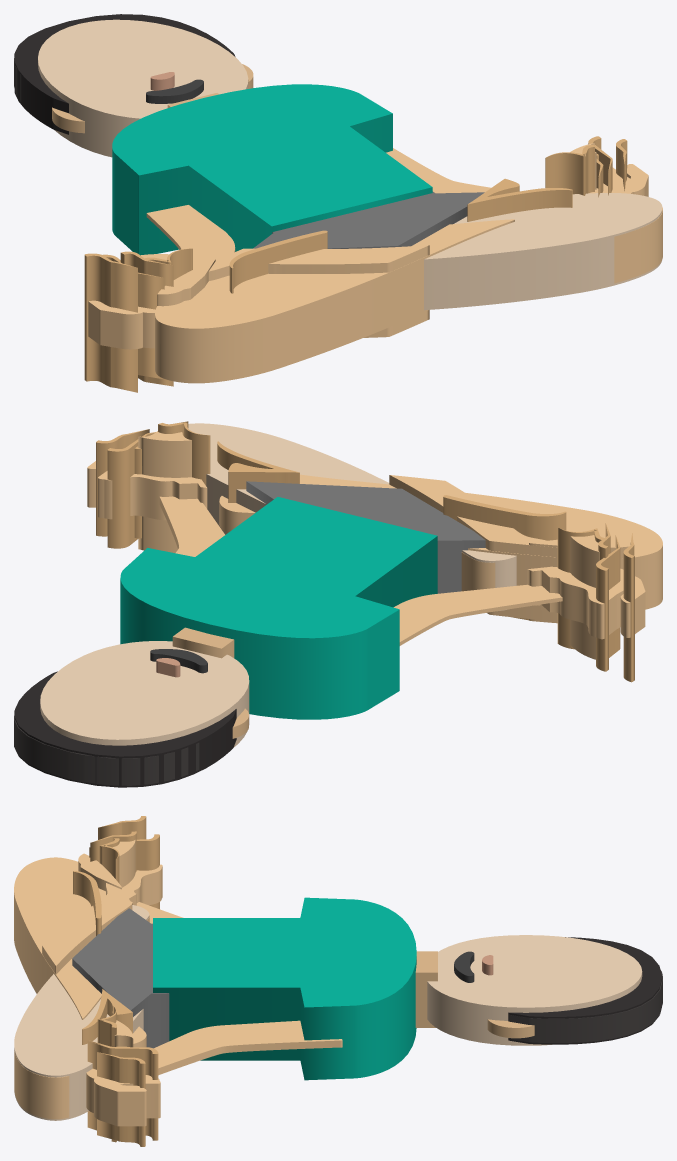
The model's file is emoji_u1f9d8_1f3fb_200d_2642.glb.
3 renders of one model, top to bottom at view 1: azimuth 30°, elevation 25°; view 2: azimuth 150°, elevation 25°; view 3: azimuth 270°, elevation 25°, orthographic. The views are drawn at different scales.
Visible parts, largest first — view 1: emoji_u1f9d8_1f3fb_200d_2642; view 2: emoji_u1f9d8_1f3fb_200d_2642; view 3: emoji_u1f9d8_1f3fb_200d_2642.
Part boxes in pixels (<box>): emoji_u1f9d8_1f3fb_200d_2642: <box>14,14,662,392</box>; emoji_u1f9d8_1f3fb_200d_2642: <box>14,421,662,787</box>; emoji_u1f9d8_1f3fb_200d_2642: <box>14,816,662,1146</box>.
Bounding box in the file's own units: 0.0294 × 0.0066 × 0.0339.
